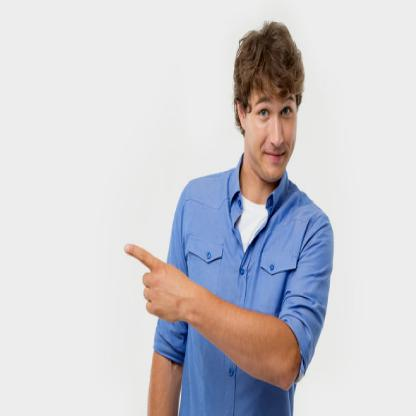Right: (116, 232, 189, 332)
